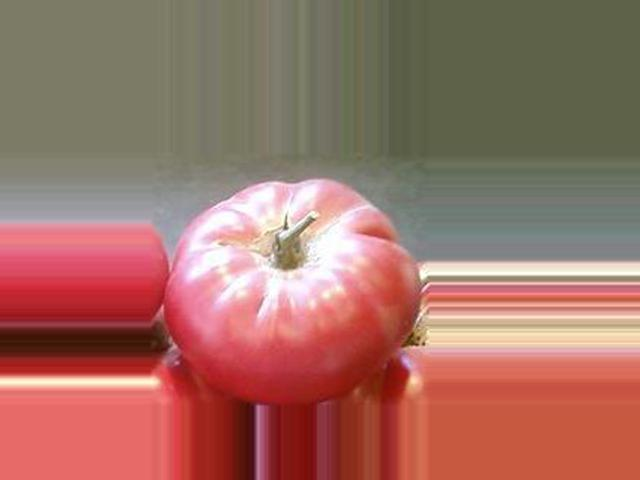tomato: (164, 179, 422, 406)
